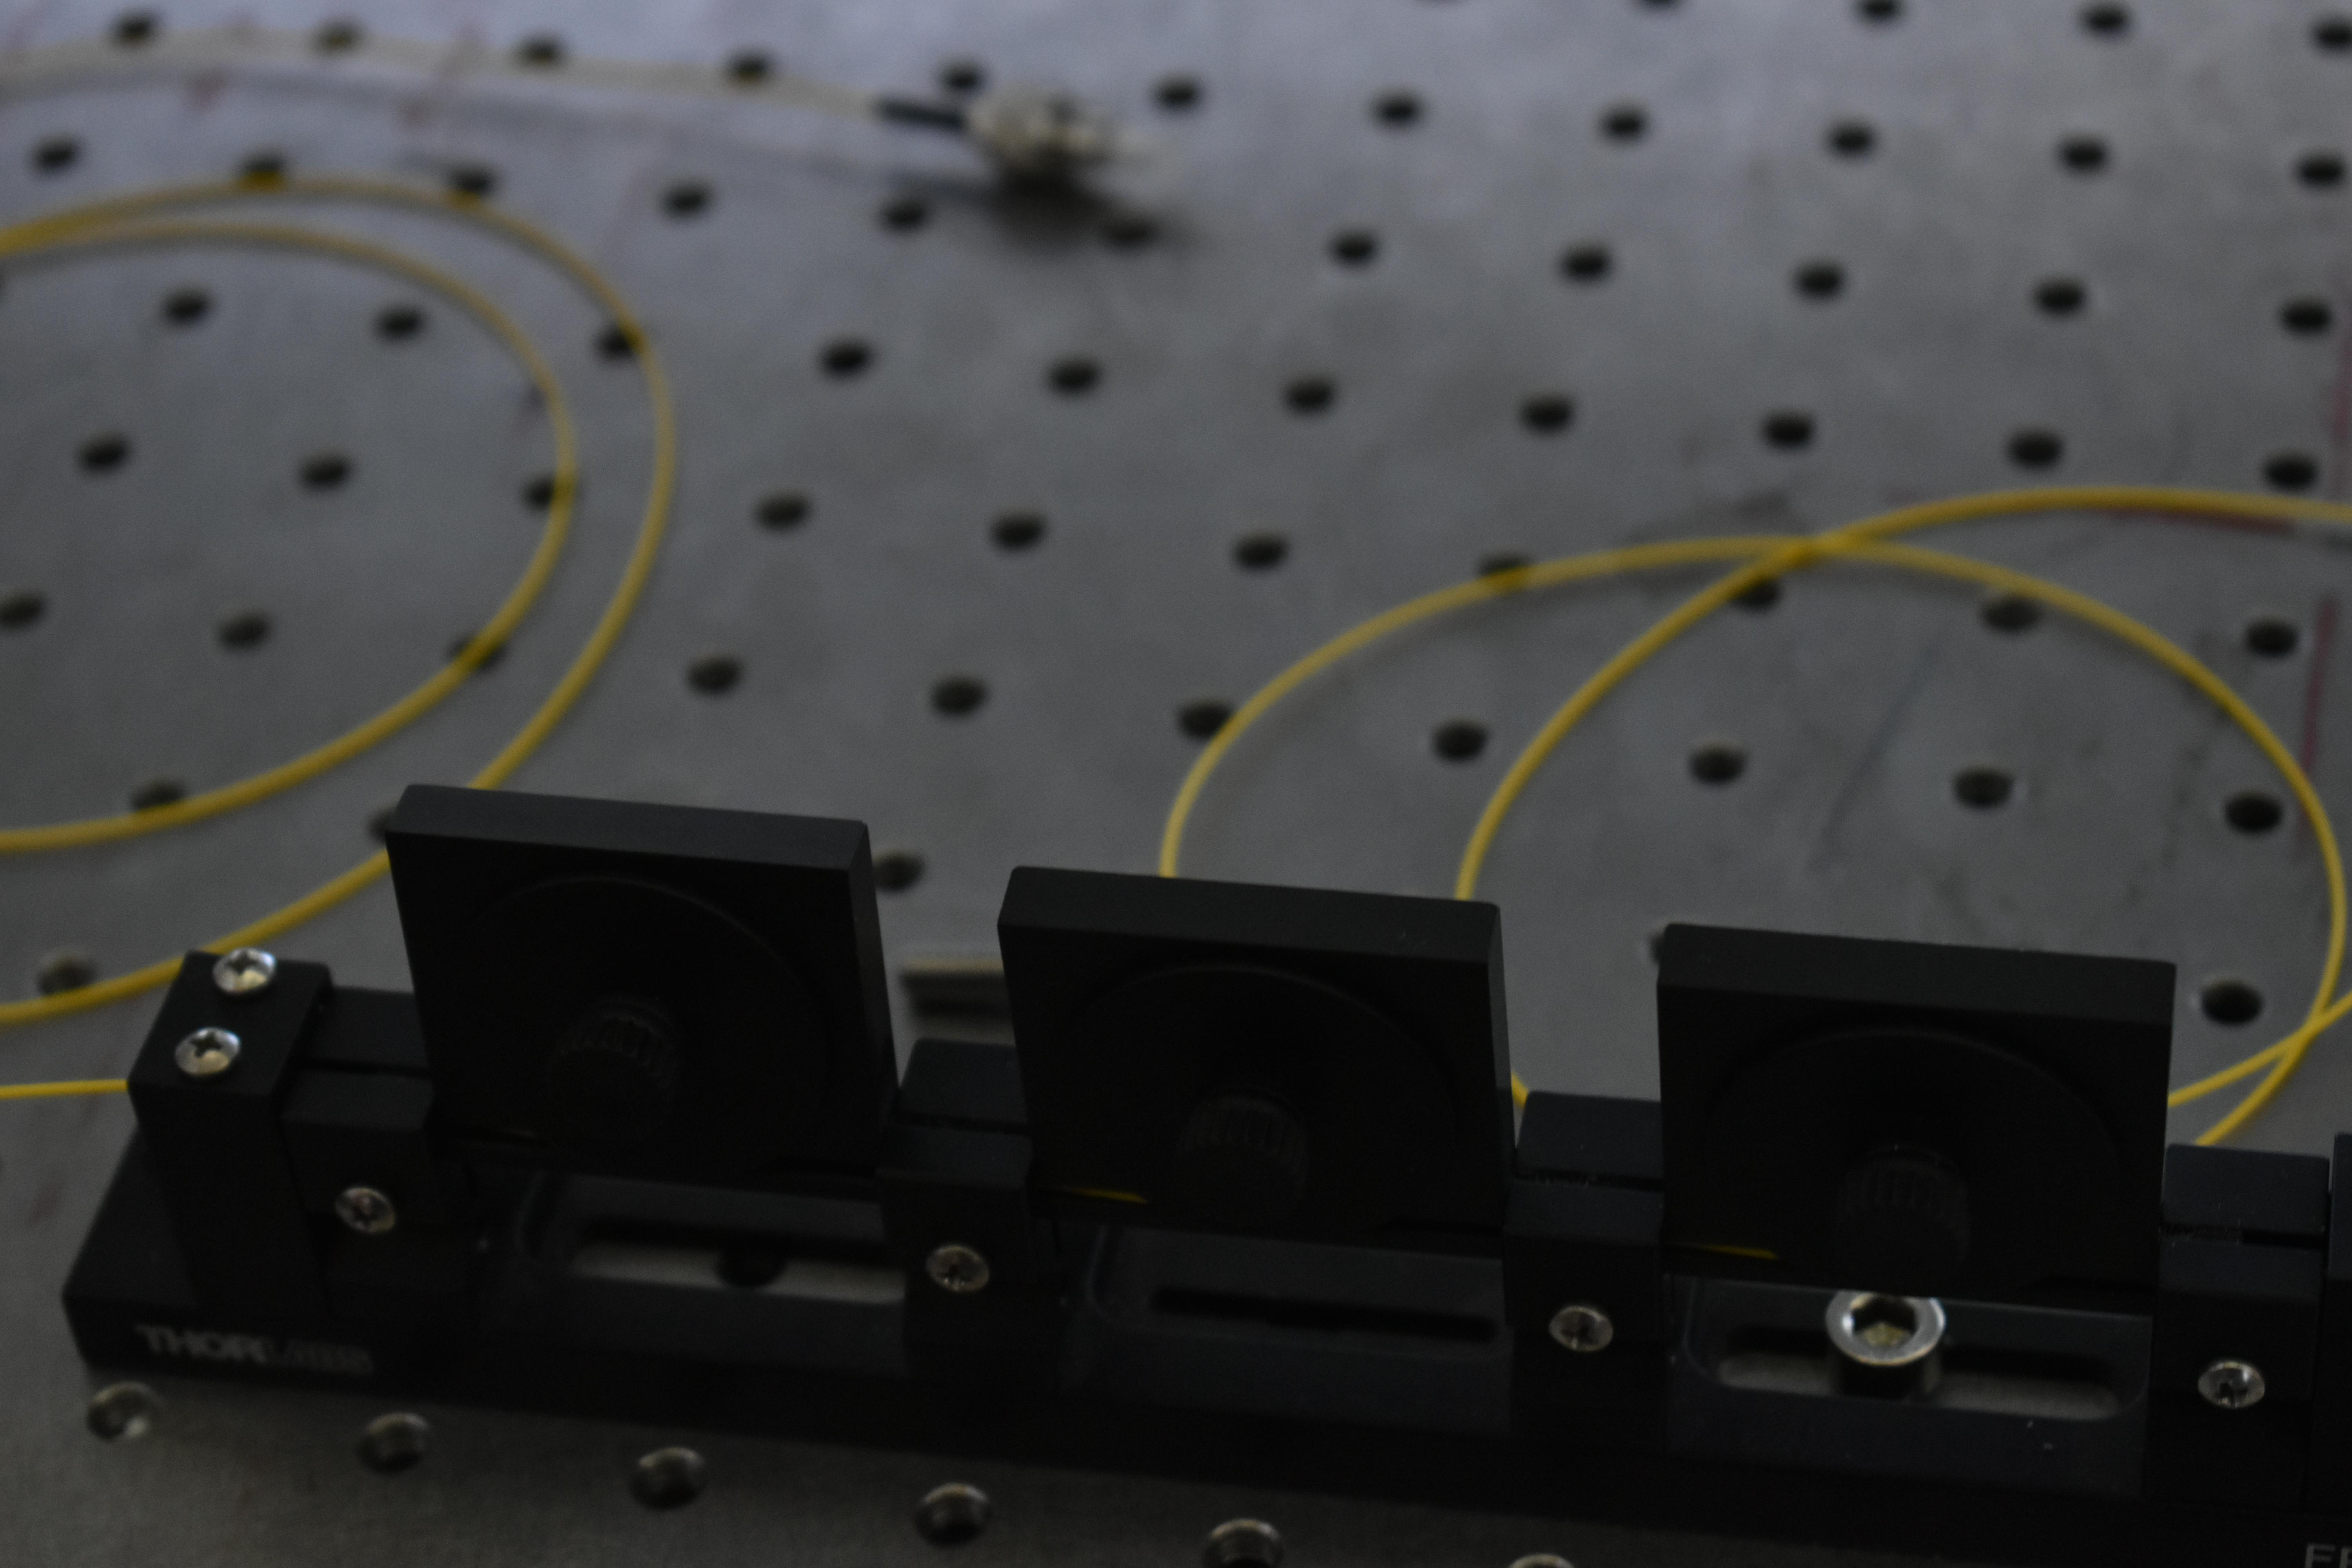paddle_polarization_controller: (55, 780, 2352, 1568)
